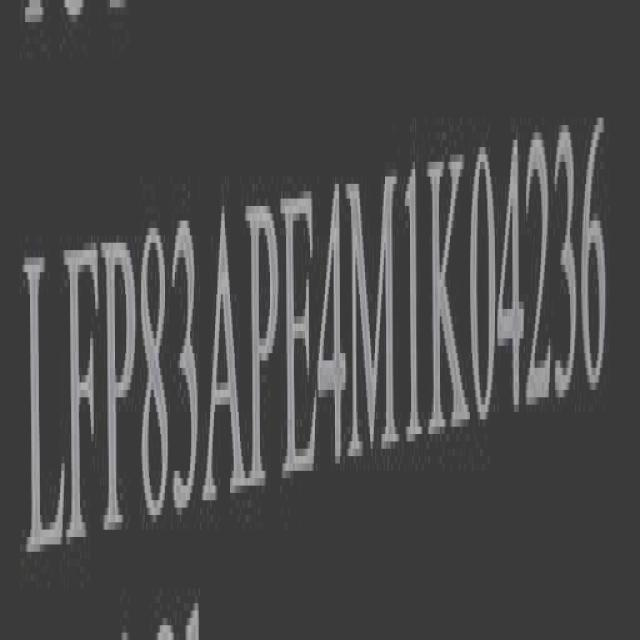0: (470, 142, 498, 433)
1: (404, 158, 424, 458)
2: (527, 123, 552, 414)
3: (171, 210, 200, 526), (552, 123, 578, 406)
4: (316, 180, 349, 493), (495, 131, 527, 425)
6: (578, 104, 607, 400)
8: (138, 215, 171, 529)
A: (205, 196, 246, 493)
E: (281, 180, 319, 498)
F: (63, 232, 101, 572)
K: (426, 150, 470, 441)
L: (21, 232, 66, 570)
M: (347, 163, 401, 474)
P: (102, 213, 138, 564), (246, 177, 280, 510)
